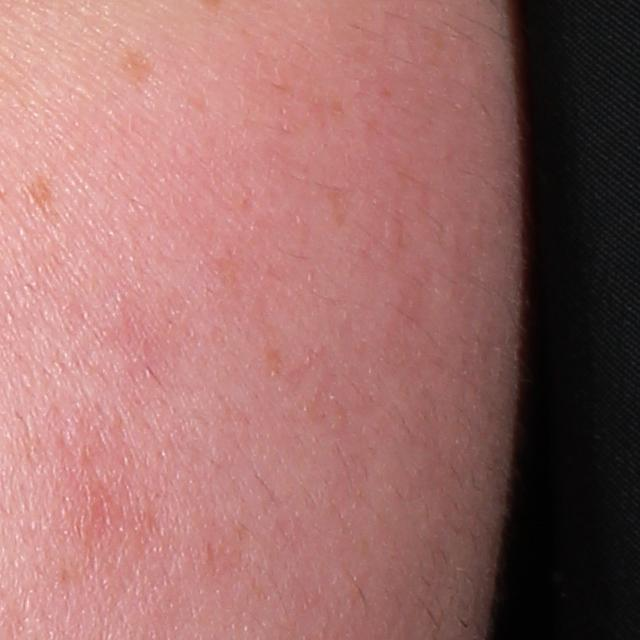melasma: (293, 91, 347, 137), (111, 48, 158, 94), (29, 183, 59, 213)
